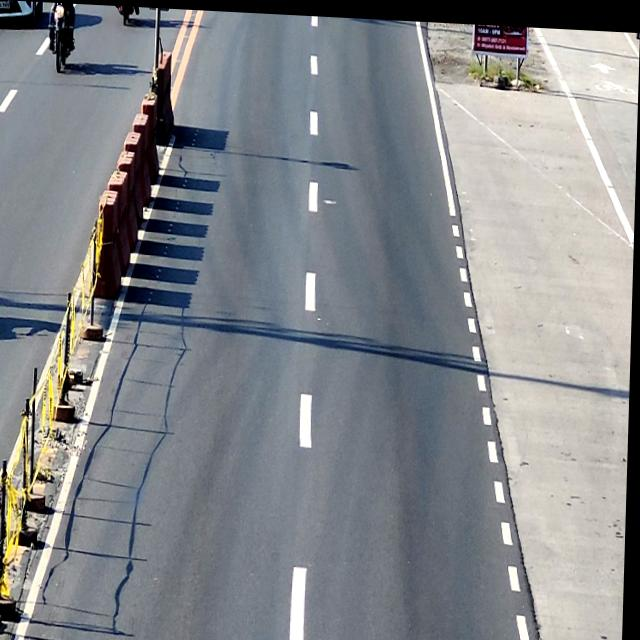Car: (0, 0, 43, 27)
License-Plate: (0, 1, 10, 8)
Motorcycle: (49, 2, 73, 74)
